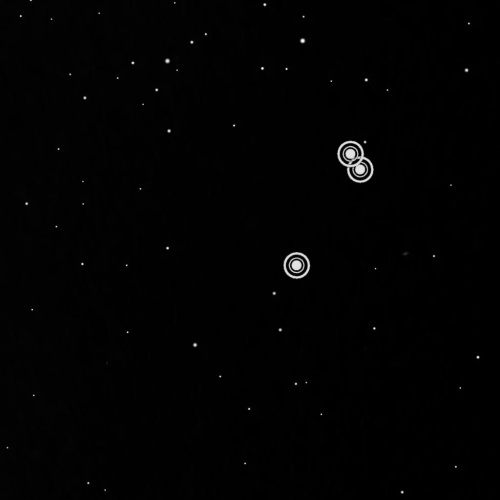canis_minor: (279, 131, 381, 285)
